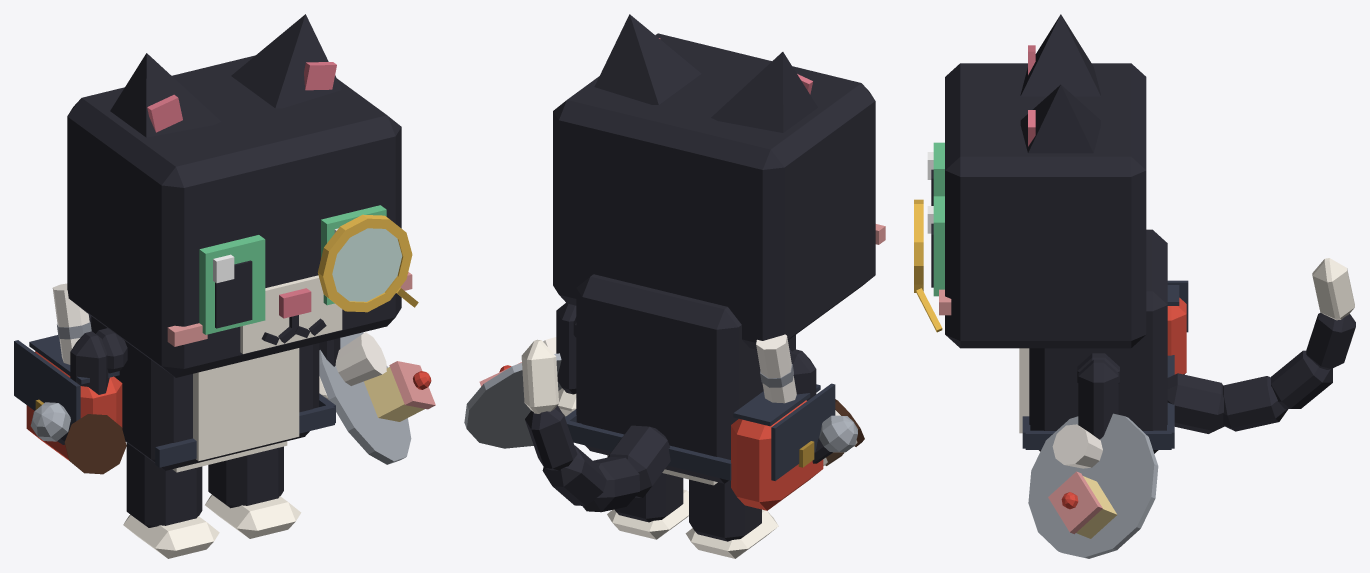
The model's file is CatCafe_Cat_Tuxedo_Work.glb.
3 views of the same model, side by side, from view 1: azimuth 30°, elevation 25°; view 2: azimuth 150°, elevation 25°; view 3: azimuth 270°, elevation 25° (orthographic). The views are drawn at different scales.
Parts seen in each view (by area): view 1: CatCafe_Cat_Tuxedo_Work_Head, CatCafe_Cat_Tuxedo_Work_Body, CatCafe_Cat_Tuxedo_Work_Held_Waiter, CatCafe_Cat_Tuxedo_Work_LegB2, CatCafe_Cat_Tuxedo_Work_LegB1, CatCafe_Cat_Tuxedo_Work_Eye2, CatCafe_Cat_Tuxedo_Work_EarL, CatCafe_Cat_Tuxedo_Work_EarR, CatCafe_Cat_Tuxedo_Work_Prop_Glass, CatCafe_Cat_Tuxedo_Work_Prop, CatCafe_Cat_Tuxedo_Work_Held_Barista, CatCafe_Cat_Tuxedo_Work_LegF2 (+2 smaller); view 2: CatCafe_Cat_Tuxedo_Work_Head, CatCafe_Cat_Tuxedo_Work_Body, CatCafe_Cat_Tuxedo_Work_Tail, CatCafe_Cat_Tuxedo_Work_EarL, CatCafe_Cat_Tuxedo_Work_LegB2, CatCafe_Cat_Tuxedo_Work_EarR, CatCafe_Cat_Tuxedo_Work_Held_Waiter, CatCafe_Cat_Tuxedo_Work_LegB1, CatCafe_Cat_Tuxedo_Work_LegF1, CatCafe_Cat_Tuxedo_Work_Held_Entertainer, CatCafe_Cat_Tuxedo_Work_LegF2; view 3: CatCafe_Cat_Tuxedo_Work_Head, CatCafe_Cat_Tuxedo_Work_Body, CatCafe_Cat_Tuxedo_Work_Held_Waiter, CatCafe_Cat_Tuxedo_Work_Tail, CatCafe_Cat_Tuxedo_Work_EarL, CatCafe_Cat_Tuxedo_Work_EarR, CatCafe_Cat_Tuxedo_Work_LegF1, CatCafe_Cat_Tuxedo_Work_Eye1, CatCafe_Cat_Tuxedo_Work_Prop, CatCafe_Cat_Tuxedo_Work_Eye2.
Part boxes in pixels (x1,y1,x2,y2): CatCafe_Cat_Tuxedo_Work_Head: (67,55,412,377); CatCafe_Cat_Tuxedo_Work_Body: (14,283,335,472); CatCafe_Cat_Tuxedo_Work_Held_Waiter: (319,332,435,464); CatCafe_Cat_Tuxedo_Work_LegB2: (123,443,219,558); CatCafe_Cat_Tuxedo_Work_LegB1: (205,446,301,538); CatCafe_Cat_Tuxedo_Work_Eye2: (199,235,265,334); CatCafe_Cat_Tuxedo_Work_EarL: (231,14,341,108); CatCafe_Cat_Tuxedo_Work_EarR: (110,53,220,137); CatCafe_Cat_Tuxedo_Work_Prop_Glass: (332,228,402,301); CatCafe_Cat_Tuxedo_Work_Prop: (317,214,418,312); CatCafe_Cat_Tuxedo_Work_Held_Barista: (64,414,126,474); CatCafe_Cat_Tuxedo_Work_LegF2: (70,331,109,394); CatCafe_Cat_Tuxedo_Work_Head: (553,33,885,349); CatCafe_Cat_Tuxedo_Work_Body: (565,274,835,510); CatCafe_Cat_Tuxedo_Work_Tail: (521,339,670,512); CatCafe_Cat_Tuxedo_Work_EarL: (594,14,701,104); CatCafe_Cat_Tuxedo_Work_LegB2: (685,479,778,558); CatCafe_Cat_Tuxedo_Work_EarR: (711,52,817,132); CatCafe_Cat_Tuxedo_Work_Held_Waiter: (464,337,565,448); CatCafe_Cat_Tuxedo_Work_LegB1: (607,473,688,539); CatCafe_Cat_Tuxedo_Work_LegF1: (556,303,576,416); CatCafe_Cat_Tuxedo_Work_Held_Entertainer: (812,415,857,463); CatCafe_Cat_Tuxedo_Work_LegF2: (790,349,816,400); CatCafe_Cat_Tuxedo_Work_Head: (939,63,1146,348); CatCafe_Cat_Tuxedo_Work_Body: (1019,229,1188,453); CatCafe_Cat_Tuxedo_Work_Held_Waiter: (1028,413,1158,558); CatCafe_Cat_Tuxedo_Work_Tail: (1167,258,1355,433); CatCafe_Cat_Tuxedo_Work_EarL: (1020,84,1100,153); CatCafe_Cat_Tuxedo_Work_EarR: (1020,14,1100,96); CatCafe_Cat_Tuxedo_Work_LegF1: (1078,359,1118,439); CatCafe_Cat_Tuxedo_Work_Eye1: (927,196,944,296); CatCafe_Cat_Tuxedo_Work_Prop: (914,199,942,332); CatCafe_Cat_Tuxedo_Work_Eye2: (927,142,944,205).
Bounding box in the file's own units: 1.53 × 1.93 × 1.67.
1 material, 1 textured.
